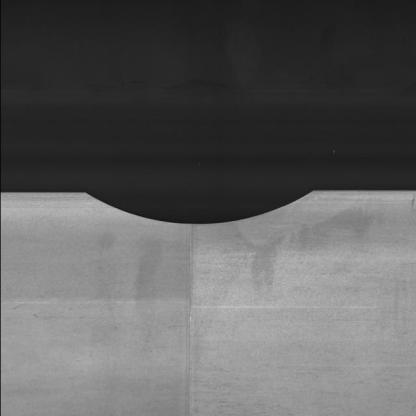crescent_gap: (75, 175, 326, 229)
welding_line: (176, 217, 211, 414)
